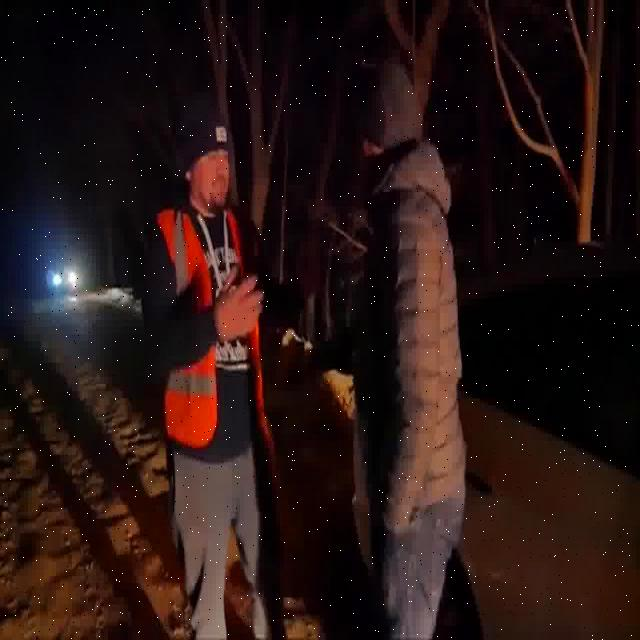Person: (142, 119, 275, 640)
Vest: (150, 212, 267, 458)
